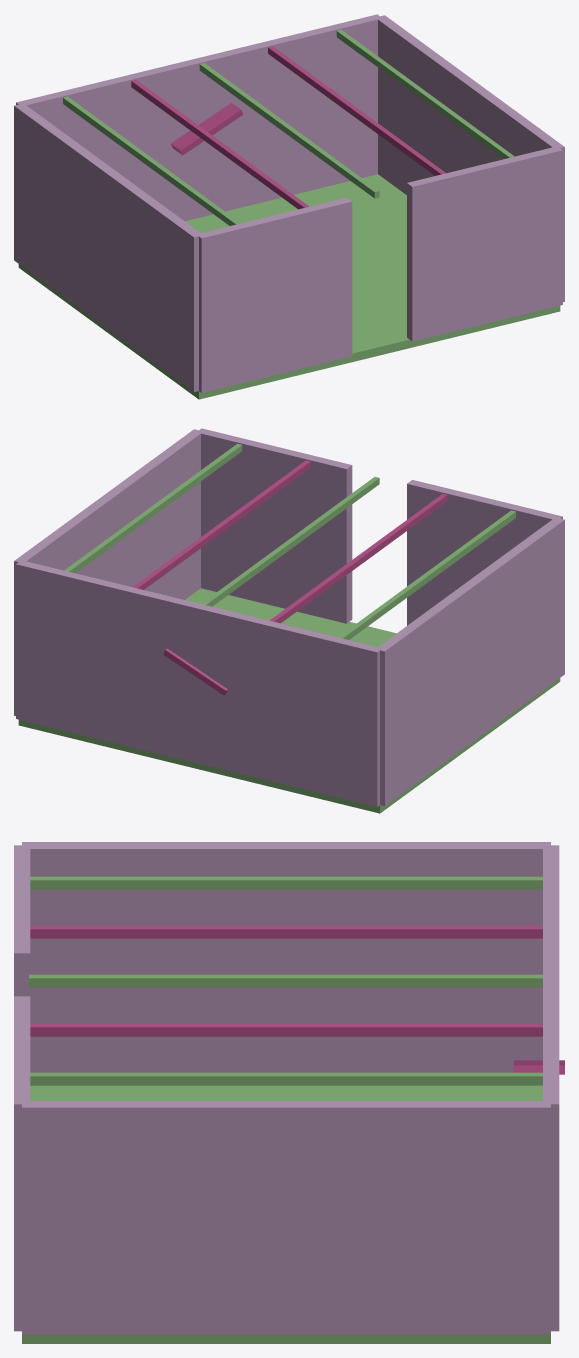
Rendered from giant_cap_home.glb.
3 views of the same model, one above another, from view 1: azimuth 30°, elevation 25°; view 2: azimuth 150°, elevation 25°; view 3: azimuth 270°, elevation 25° (orthographic). The views are drawn at different scales.
Parts seen in each view (by area): view 1: wall_north, wall_west, wall_south_right, wall_south_left, wall_east, floor, ceiling_beam_0, ceiling_beam_2, ceiling_beam_-1, ceiling_beam_1, ceiling_beam_-2, purpose_mushroom_house; view 2: wall_north, wall_west, wall_south_right, wall_east, wall_south_left, floor, ceiling_beam_0, ceiling_beam_2, ceiling_beam_-1, ceiling_beam_1, ceiling_beam_-2, purpose_mushroom_house; view 3: wall_east, wall_west, floor, ceiling_beam_0, ceiling_beam_-2, ceiling_beam_-1, ceiling_beam_1, ceiling_beam_2, wall_north, wall_south_right, wall_south_left.
Boxes of the visible parts, x1,y1,x2,y2 form: wall_north: (16, 14, 382, 221); wall_west: (14, 104, 203, 391); wall_south_right: (407, 146, 562, 341); wall_south_left: (199, 197, 352, 392); wall_east: (377, 15, 564, 301); floor: (18, 174, 560, 399); ceiling_beam_0: (199, 63, 379, 198); ceiling_beam_2: (336, 29, 514, 159); ceiling_beam_-1: (131, 80, 308, 209); ceiling_beam_1: (268, 46, 445, 175); ceiling_beam_-2: (63, 96, 240, 225); purpose_mushroom_house: (171, 102, 243, 155); wall_north: (16, 561, 382, 806); wall_west: (376, 517, 564, 805); wall_south_right: (197, 428, 352, 623); wall_east: (14, 429, 203, 715); wall_south_left: (407, 480, 562, 625); floor: (18, 588, 560, 813); ceiling_beam_0: (201, 477, 379, 606); ceiling_beam_2: (64, 443, 242, 573); ceiling_beam_-1: (270, 494, 447, 623); ceiling_beam_1: (133, 460, 310, 589); ceiling_beam_-2: (338, 510, 515, 639); purpose_mushroom_house: (163, 648, 227, 695); wall_east: (22, 1101, 550, 1334); wall_west: (22, 842, 550, 1072); floor: (22, 1085, 550, 1343); ceiling_beam_0: (29, 974, 542, 987); ceiling_beam_-2: (30, 876, 542, 889); ceiling_beam_-1: (30, 925, 542, 938); ceiling_beam_1: (30, 1023, 542, 1036); ceiling_beam_2: (30, 1072, 542, 1085); wall_north: (543, 845, 559, 1331); wall_south_right: (14, 996, 30, 1331); wall_south_left: (14, 845, 30, 996).
Size of what is drawn, in the model's own units: 13.55 by 5.7 by 11.88.
